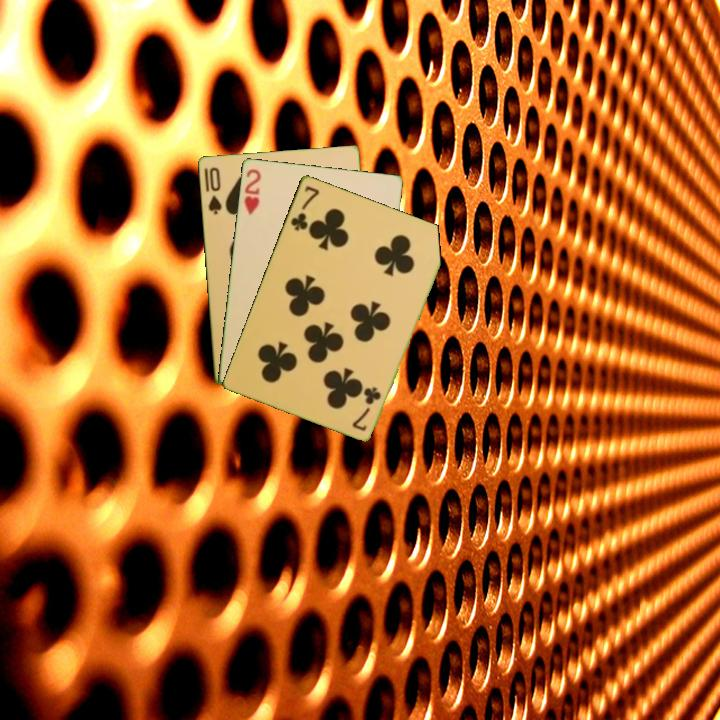10s: (205, 164, 224, 217)
2h: (241, 165, 264, 218)
7c: (287, 182, 322, 233), (350, 383, 384, 434)
